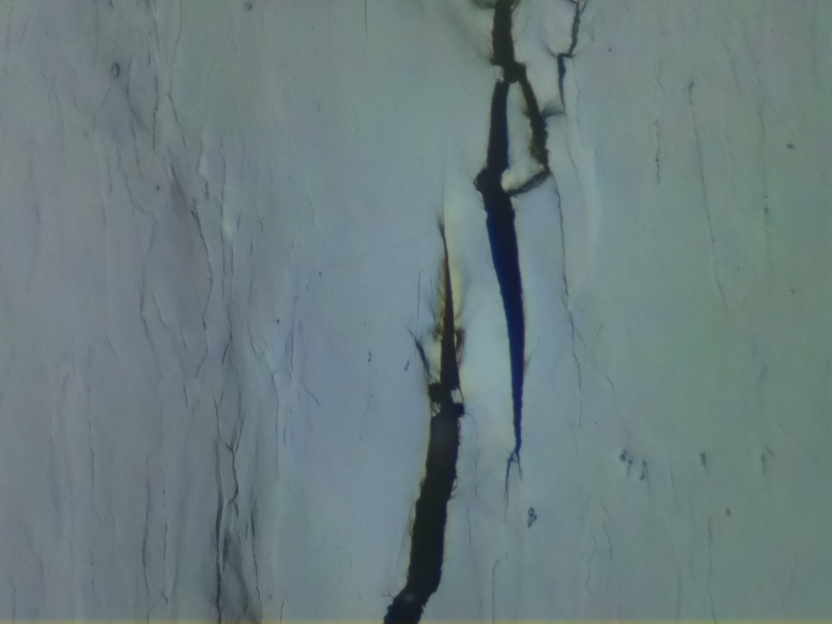crack: (471, 0, 559, 481), (381, 218, 464, 624), (553, 0, 588, 109)
